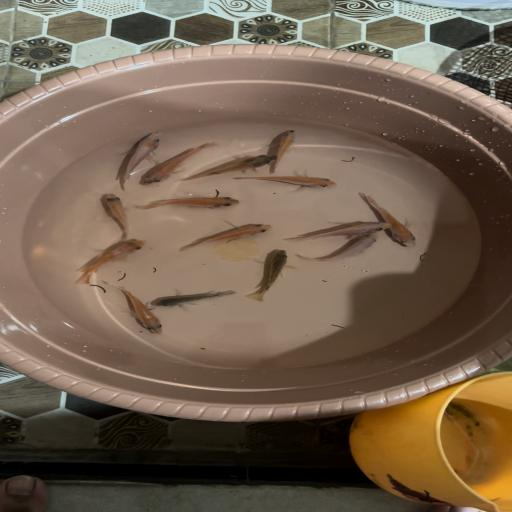nila: (355, 194, 428, 250), (72, 239, 154, 286), (142, 142, 222, 189), (238, 250, 299, 304), (183, 217, 273, 253), (108, 285, 168, 339), (110, 128, 164, 187), (286, 217, 390, 245), (183, 152, 271, 185), (257, 129, 311, 175), (132, 192, 243, 214), (302, 237, 381, 266), (234, 172, 343, 193), (94, 191, 141, 238), (152, 288, 238, 312)
